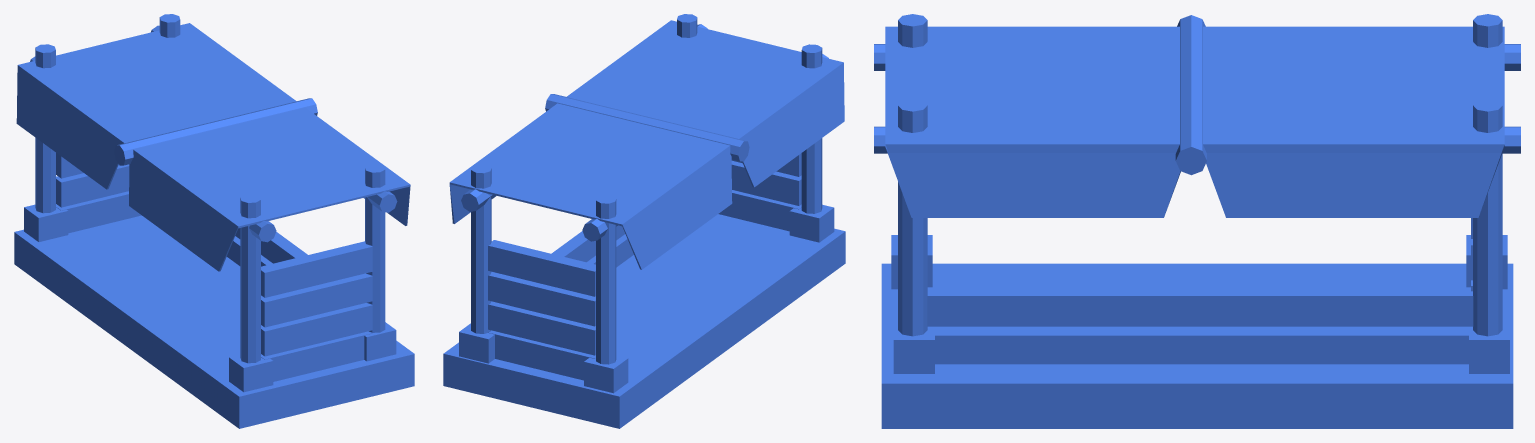
File: Storage_Variant1.fbx
3 views of the same model, side by side, from view 1: azimuth 30°, elevation 25°; view 2: azimuth 150°, elevation 25°; view 3: azimuth 270°, elevation 25° (orthographic). The views are drawn at different scales.
Visible parts, largest first — view 1: Storage_Variant1; view 2: Storage_Variant1; view 3: Storage_Variant1.
Boxes of the visible parts, left/top/right/bottom form: Storage_Variant1: left=14, top=14, right=414, bottom=428; Storage_Variant1: left=443, top=14, right=845, bottom=428; Storage_Variant1: left=874, top=14, right=1520, bottom=428.
Size of the model in its own units: 224 by 240 by 463.
